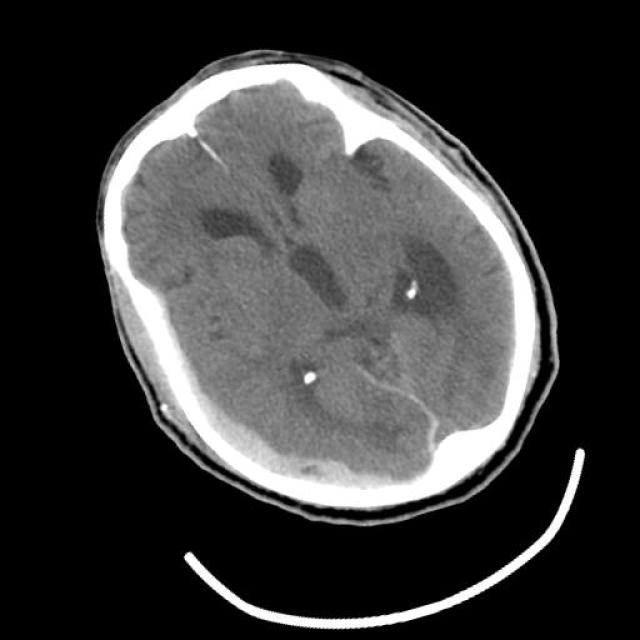Subdural: (114, 232, 408, 563), (358, 340, 481, 474)
